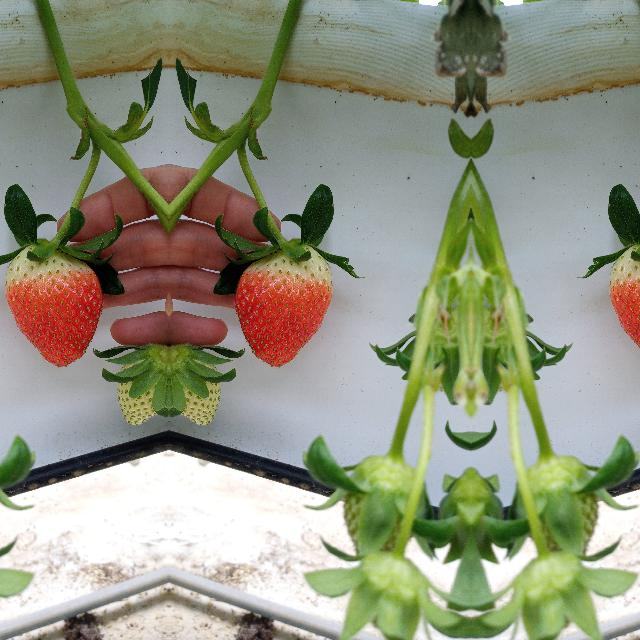Health_100: (3, 245, 102, 368), (234, 245, 332, 368), (608, 244, 640, 367)
Health_25: (520, 446, 620, 566), (322, 446, 421, 566), (172, 340, 224, 432), (112, 340, 164, 432)
